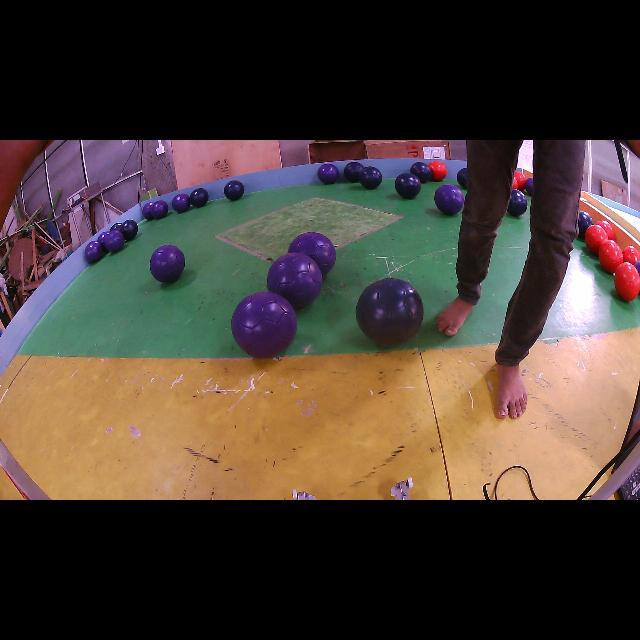B: (356, 278, 424, 346), (395, 174, 421, 199), (359, 166, 382, 190), (508, 189, 528, 216), (578, 211, 594, 239), (224, 180, 245, 201), (410, 161, 431, 182), (344, 162, 364, 182), (190, 188, 209, 208), (119, 220, 138, 240), (456, 168, 468, 189), (110, 222, 121, 231)
P: (231, 292, 298, 358), (268, 251, 322, 309), (289, 231, 336, 276), (150, 245, 185, 282), (434, 185, 464, 215), (104, 230, 125, 252), (318, 164, 339, 185), (85, 241, 102, 264), (151, 200, 169, 219), (172, 194, 190, 212), (141, 202, 154, 220), (98, 231, 109, 249), (525, 178, 534, 196)
R: (615, 262, 640, 301), (599, 240, 624, 274), (585, 224, 608, 255), (429, 161, 448, 181), (596, 220, 615, 240), (622, 246, 640, 265), (514, 171, 526, 190), (512, 178, 519, 188)
